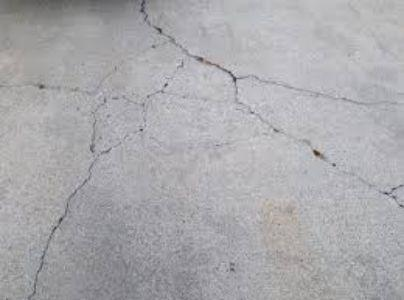alligator-crack: (75, 22, 251, 147)
crack: (216, 77, 404, 202), (26, 157, 93, 300), (132, 6, 243, 80), (229, 69, 404, 110), (3, 77, 73, 95)
